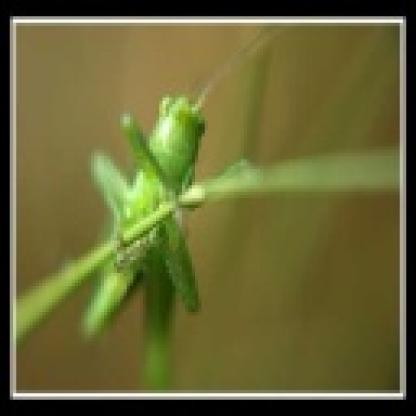grasshopper: (90, 87, 218, 357)
